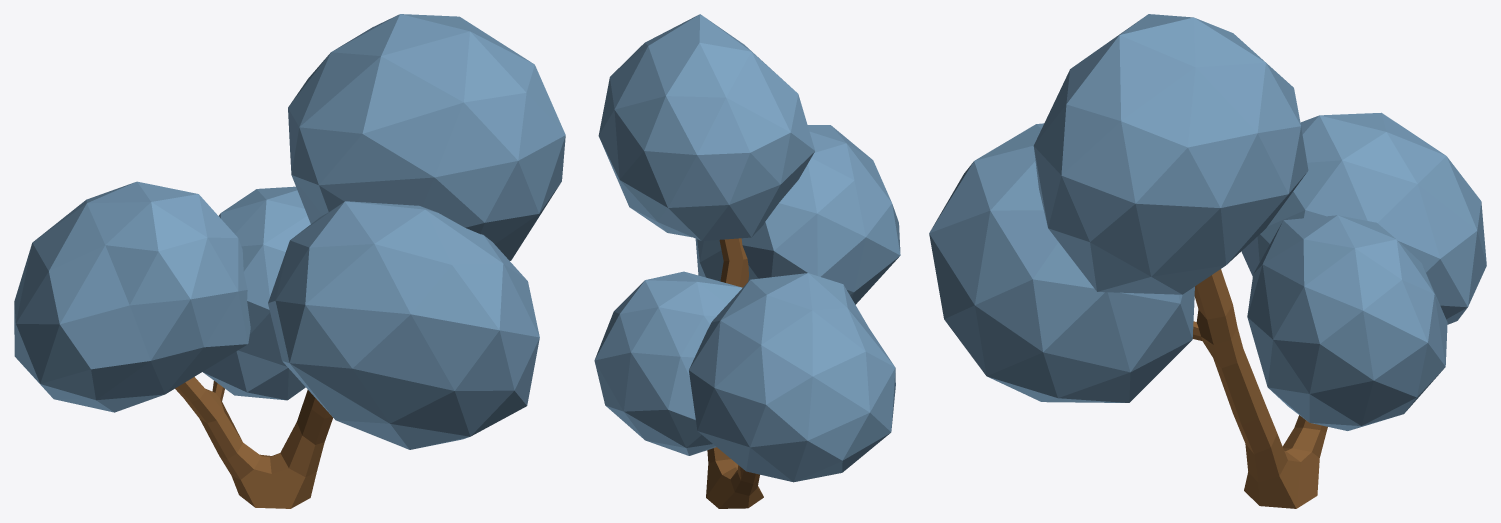
The model's file is Bush1.fbx.
The picture shows the model from 3 angles, left to right: view 1: azimuth 30°, elevation 25°; view 2: azimuth 150°, elevation 25°; view 3: azimuth 270°, elevation 25°; orthographic projection. The views are drawn at different scales.
Visible parts, largest first — view 1: Circle.001; view 2: Circle.001; view 3: Circle.001.
Boxes of the visible parts, x1,y1,x2,y2 form: Circle.001: (14, 14, 565, 508); Circle.001: (594, 14, 900, 508); Circle.001: (929, 14, 1486, 508).
Size of the model in its own units: 534 by 598 by 580.
